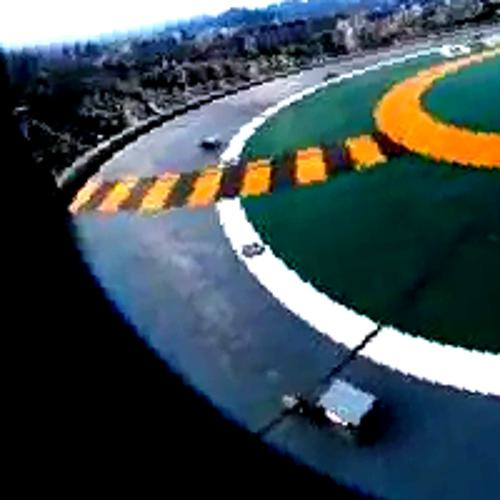Apron: (366, 28, 500, 219)
